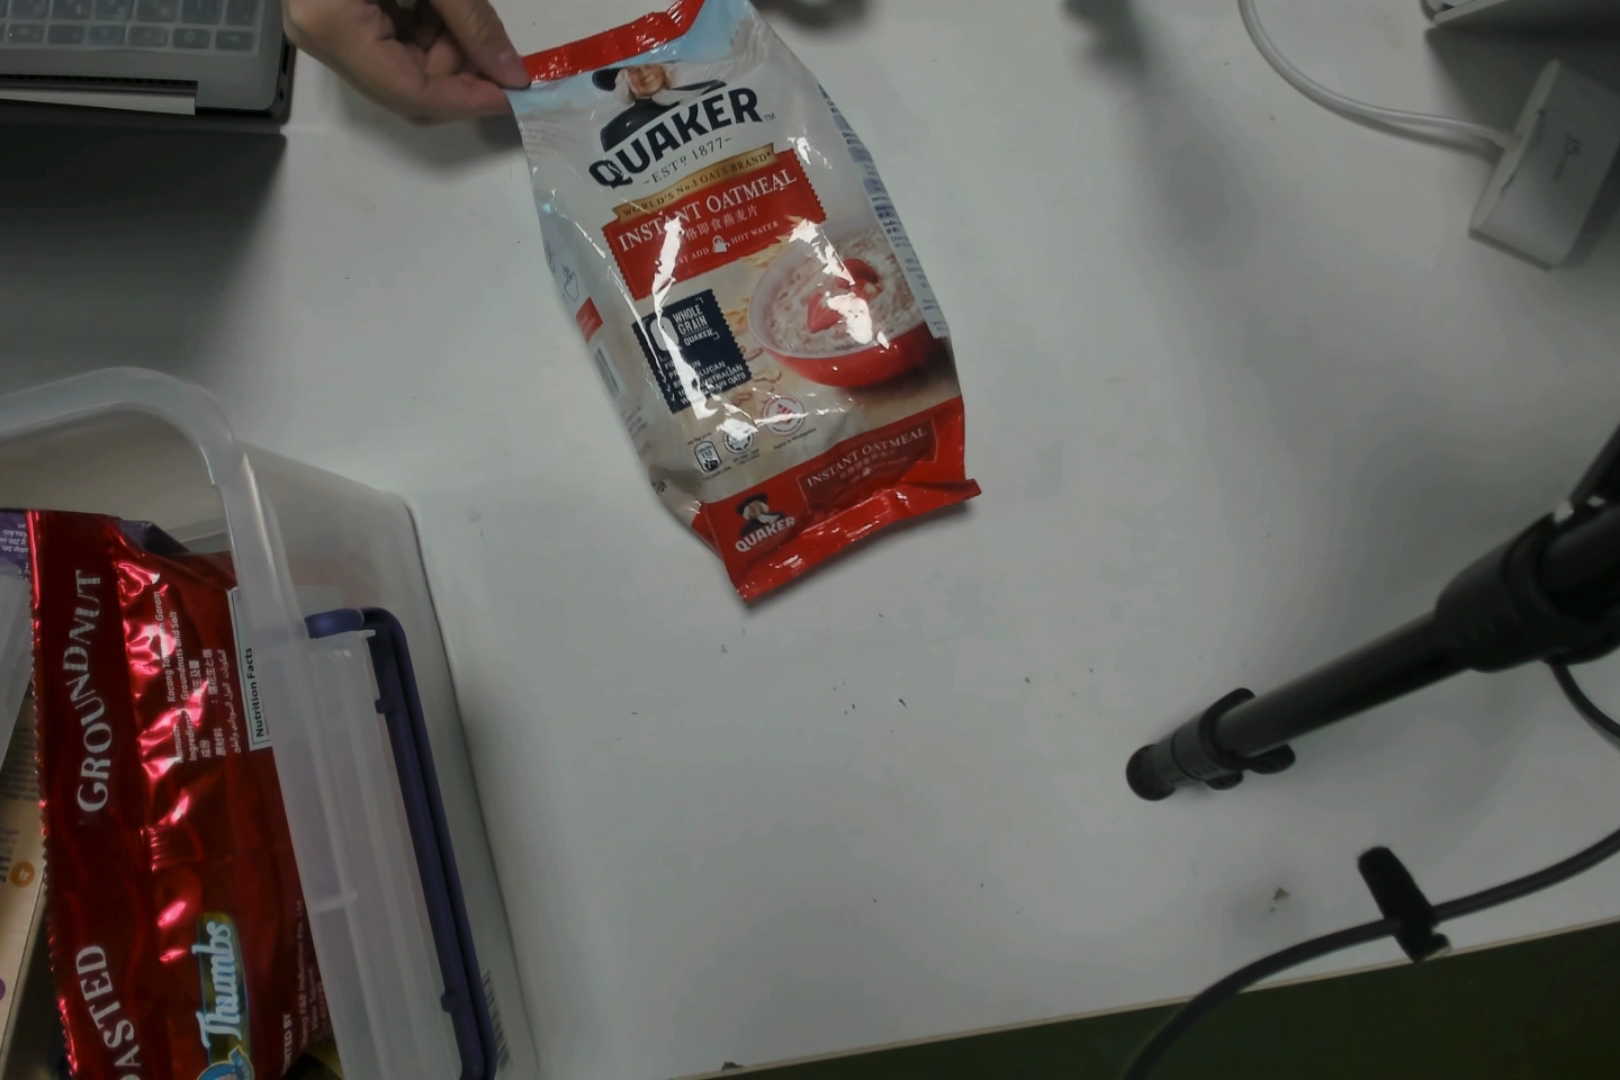RolledOatsInstantOatmeal_400-499g_Halal_Healthy: (581, 35, 1012, 589)
